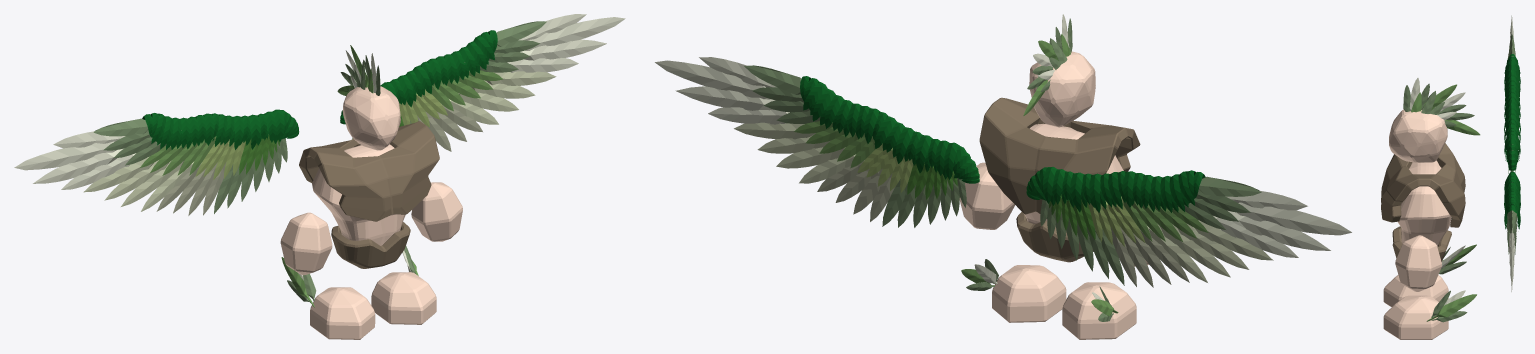
File: AirWizard.fbx
The picture shows the model from 3 angles, left to right: view 1: azimuth 30°, elevation 25°; view 2: azimuth 150°, elevation 25°; view 3: azimuth 270°, elevation 25°; orthographic projection. The views are drawn at different scales.
Parts seen in each view (by area): view 1: Chest Armor, Head, Leg_R, Leg_L, Body, Fether.008, Hand_R, Hand_L, Fether.009, Bottom Armor, Fether.010, Fether.011 (+26 smaller); view 2: Chest Armor, Leg_L, Fether.008, Head, Leg_R, Fether.009, Hand_L, Fether.010, Fether.011, Fether.061, Fether.013, Fether.066 (+37 smaller); view 3: Chest Armor, Body, Head, Leg_L, Hand_L, Leg_R, Bottom Armor, F_Leg_4_L, F_Head.006, F_Head, Fether.086, Fether.093 (+28 smaller).
Boxes of the visible parts, x1,y1,x2,y2 form: Chest Armor: (299,121,439,221); Head: (342,86,400,150); Leg_R: (310,287,375,339); Leg_L: (371,272,436,324); Body: (312,144,405,245); Fether.008: (14,17,625,170); Hand_R: (280,212,332,275); Hand_L: (411,182,462,241); Fether.009: (33,39,606,183); Bottom Armor: (331,222,410,268); Fether.010: (61,58,578,189); Fether.011: (83,71,556,192); Chest Armor: (979,97,1140,218); Leg_L: (992,265,1066,322); Fether.008: (655,60,1351,235); Head: (1029,51,1095,127); Leg_R: (1062,282,1136,339); Fether.009: (675,86,1330,250); Hand_L: (959,162,1014,229); Fether.010: (708,107,1298,257); Fether.011: (734,122,1273,260); Fether.061: (699,57,1307,210); Fether.013: (776,147,1230,277); Fether.066: (744,65,1261,196); Chest Armor: (1381,143,1465,227); Body: (1397,160,1451,246); Head: (1389,109,1447,162); Leg_L: (1383,295,1448,339); Hand_L: (1395,235,1441,291); Leg_R: (1383,275,1448,307); Bottom Armor: (1392,226,1451,261); F_Leg_4_L: (1426,294,1476,321); F_Head.006: (1445,120,1480,135); F_Head: (1423,84,1456,110); Fether.086: (1504,134,1520,190); Fether.093: (1504,123,1520,199).
Size of the model in its own units: 423 by 93.23 by 176.
